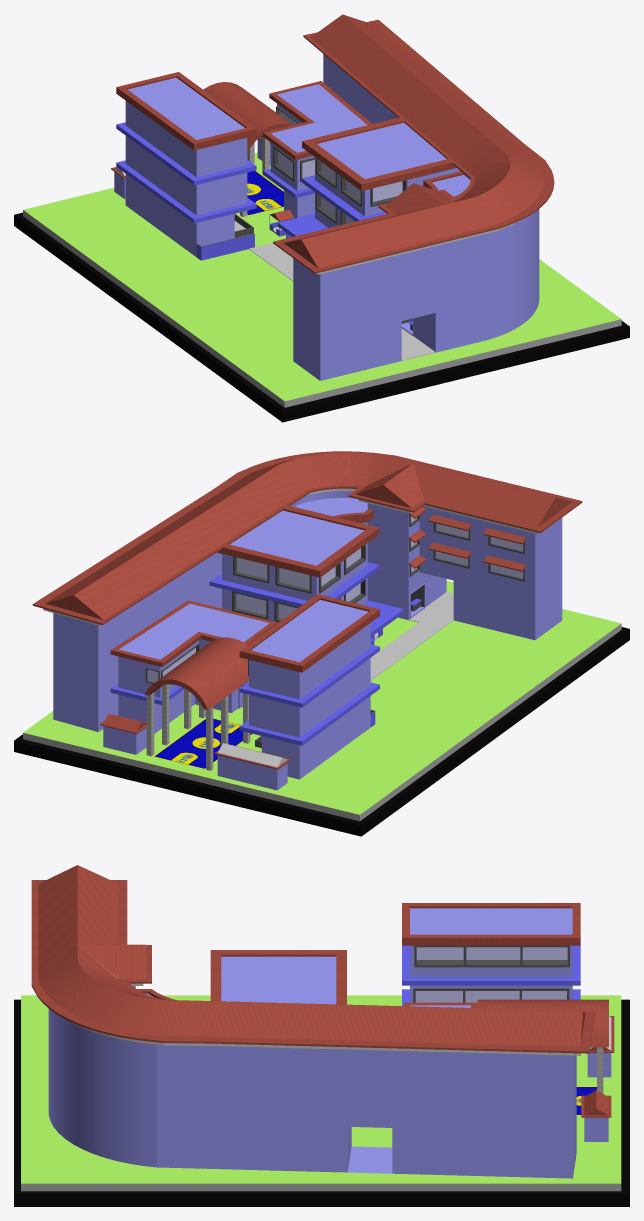
Rendered from load.gltf.
3 views of the same model, one above another, from view 1: azimuth 30°, elevation 25°; view 2: azimuth 150°, elevation 25°; view 3: azimuth 270°, elevation 25° (orthographic). The views are drawn at different scales.
Parts seen in each view (by area): view 1: root; view 2: root; view 3: root.
Part boxes in pixels (x1,y1,x2,y2): root: (14, 14, 629, 422); root: (14, 451, 629, 836); root: (14, 865, 629, 1206).
Size of the model in its own units: 113 by 47.19 by 152.
Materials: 15 (3 with a texture image).
